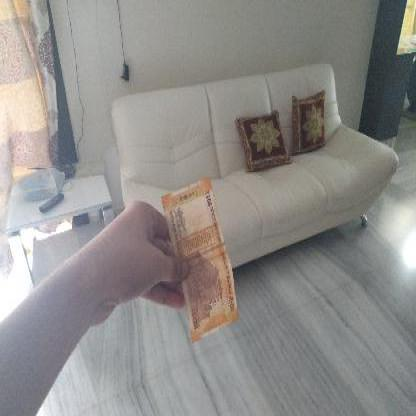New200Back: (164, 176, 232, 340)
